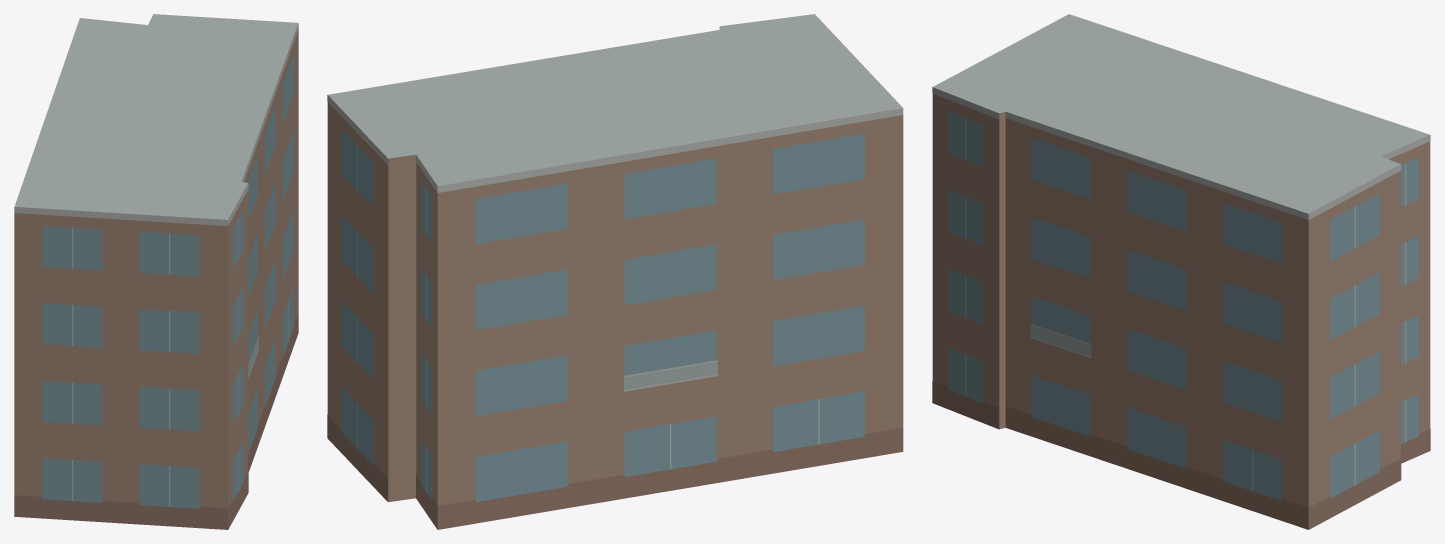
The model's file is survey-upis-32771919.glb.
The picture shows the model from 3 angles, left to right: view 1: azimuth 30°, elevation 25°; view 2: azimuth 150°, elevation 25°; view 3: azimuth 270°, elevation 25°; orthographic projection. The views are drawn at different scales.
Visible parts, largest first — view 1: survey-upis-32771919.tmp; view 2: survey-upis-32771919.tmp; view 3: survey-upis-32771919.tmp.
Part boxes in pixels (x1=…): survey-upis-32771919.tmp: x1=14, y1=14, x2=298, y2=529; survey-upis-32771919.tmp: x1=327, y1=14, x2=903, y2=529; survey-upis-32771919.tmp: x1=932, y1=14, x2=1430, y2=529.
Bounding box in the file's own units: 16.56 × 12.2 × 17.43.
